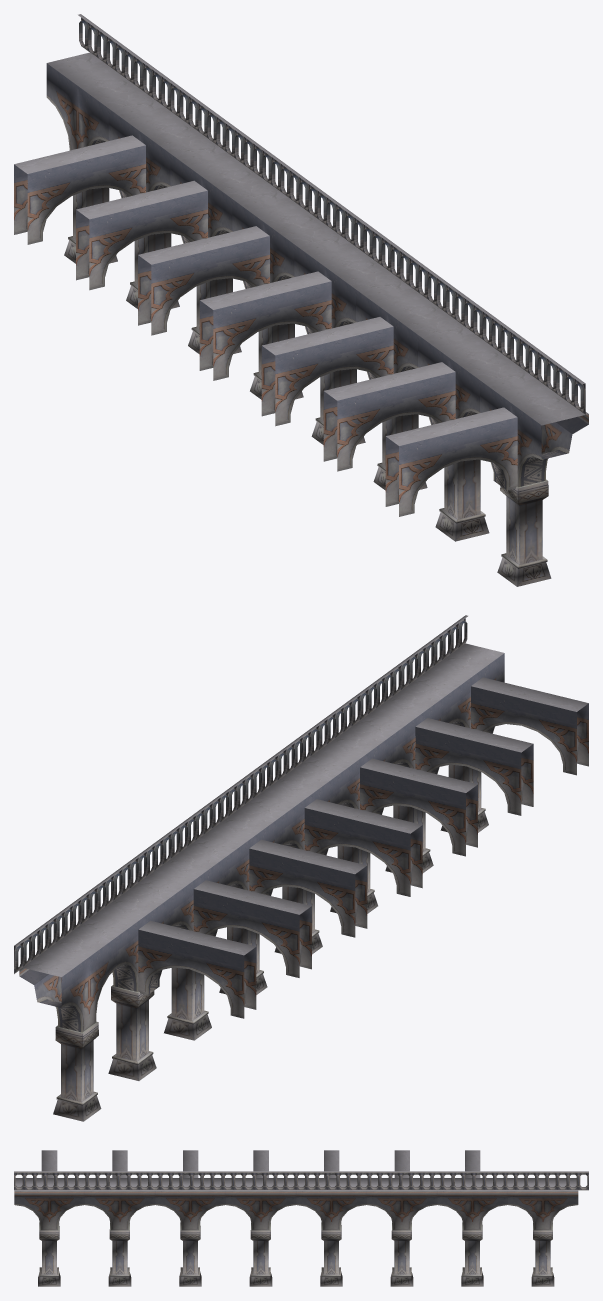
The model's file is Recruit_Other_01.FBX.
3 renders of one model, top to bottom at view 1: azimuth 30°, elevation 25°; view 2: azimuth 150°, elevation 25°; view 3: azimuth 270°, elevation 25°, orthographic. The views are drawn at different scales.
Parts seen in each view (by area): view 1: Recruit_Other_01; view 2: Recruit_Other_01; view 3: Recruit_Other_01.
Part boxes in pixels (<box>): Recruit_Other_01: <box>14,14,588,586</box>; Recruit_Other_01: <box>14,615,588,1121</box>; Recruit_Other_01: <box>14,1150,588,1286</box>.
Size of the model in its own units: 7.68 by 9.19 by 40.56.
